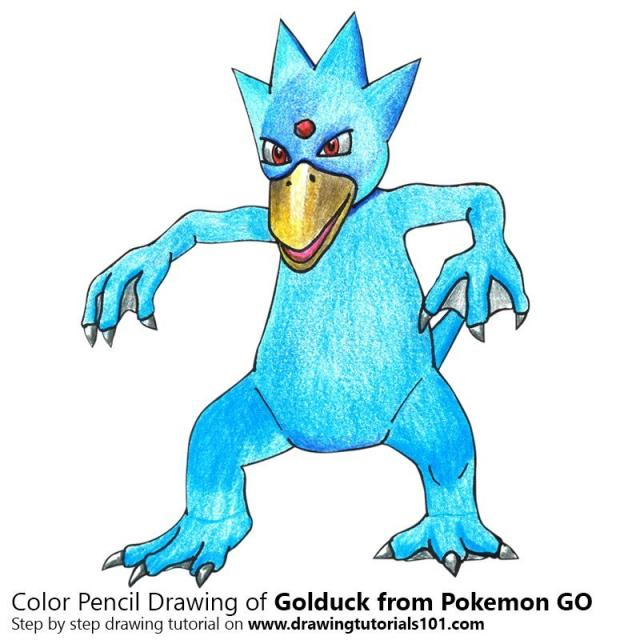Golduck: (205, 16, 493, 581)
